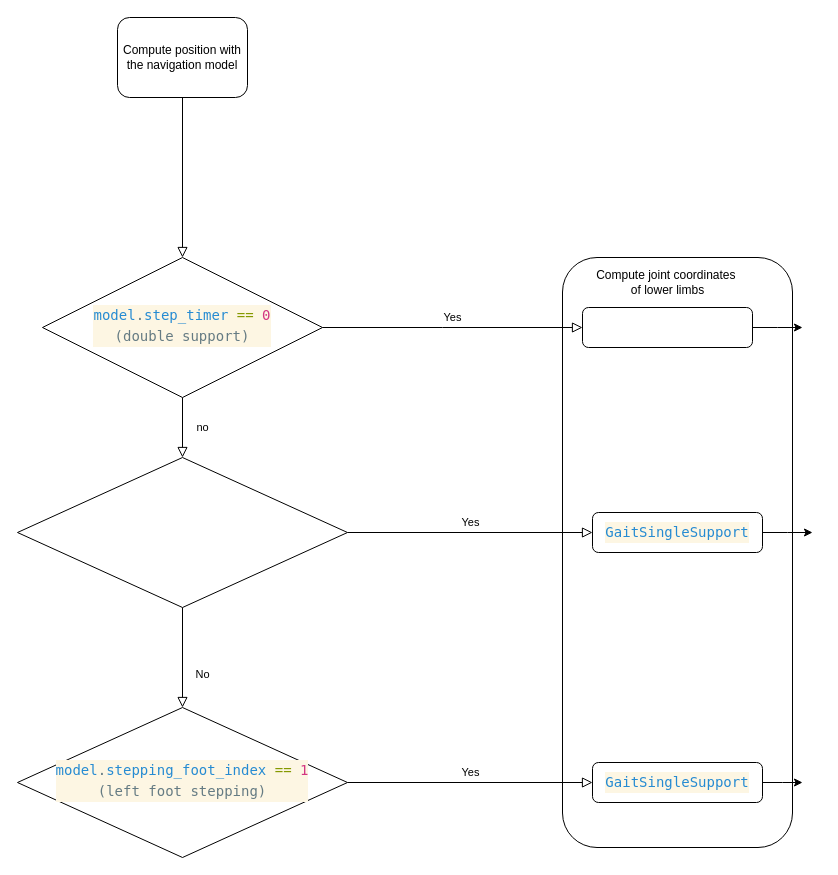
Image size: 838x875. Some labels were removed from this diagram. The centre of each missing label's shape, as x and y in pixels:
"GaitDoubleSupport" goes at point (667, 327).
"model . stepping_foot_index == - 1 (right foot stepping)" goes at point (182, 532).
